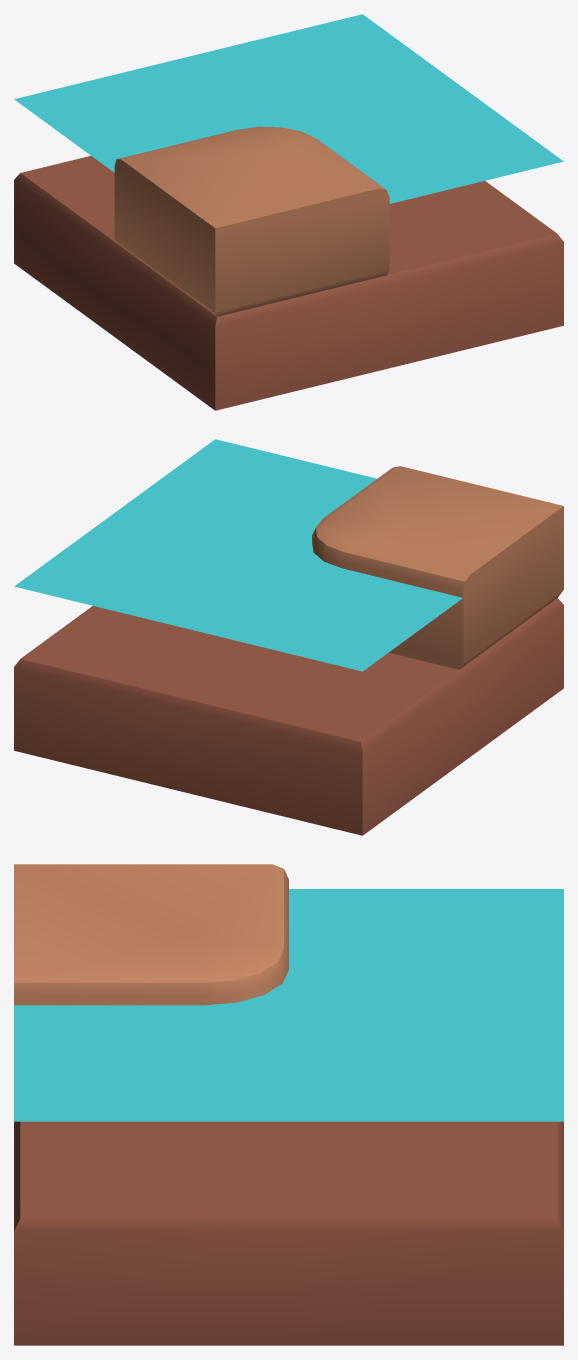
Rendered from kaykit-square-rock-wateroutercorner-nosides.glb.
3 renders of one model, top to bottom at view 1: azimuth 30°, elevation 25°; view 2: azimuth 150°, elevation 25°; view 3: azimuth 270°, elevation 25°, orthographic. The views are drawn at different scales.
Visible parts, largest first — view 1: square_rock_waterOuterCorner_noSides; view 2: square_rock_waterOuterCorner_noSides; view 3: square_rock_waterOuterCorner_noSides.
Part boxes in pixels (x1,y1,x2,y2): square_rock_waterOuterCorner_noSides: (14,14,563,410); square_rock_waterOuterCorner_noSides: (14,439,563,835); square_rock_waterOuterCorner_noSides: (14,864,563,1345).
Bounding box in the file's own units: 2 × 0.9998 × 2.
